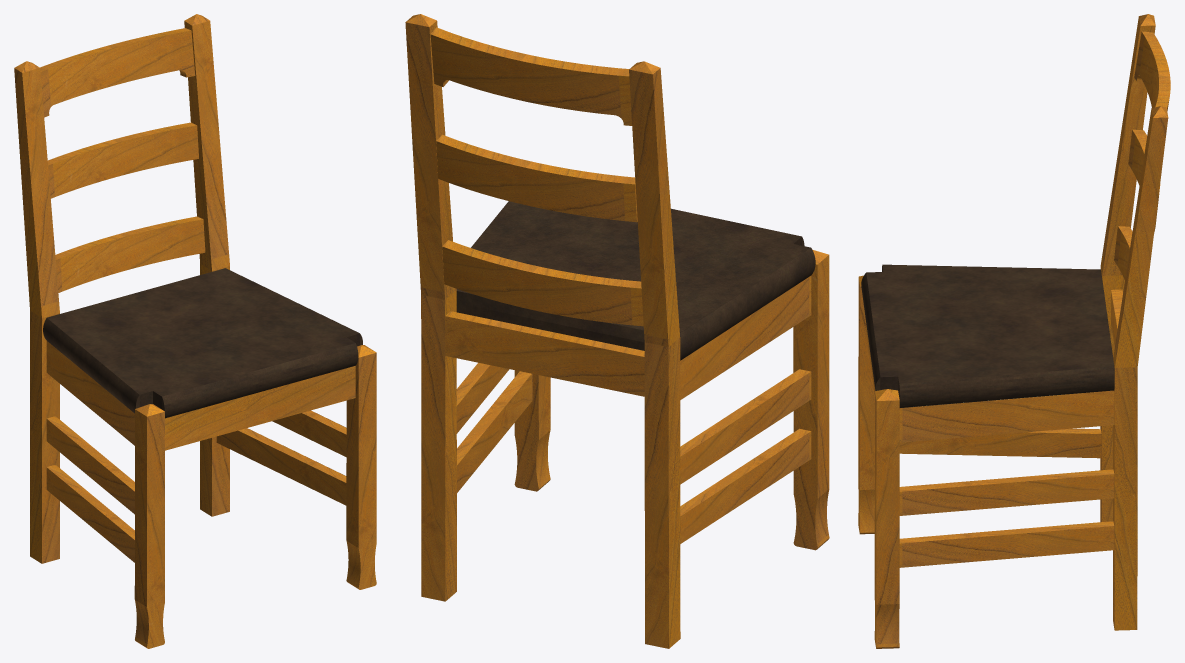
The model's file is chair3.dae.
3 renders of one model, left to right at view 1: azimuth 30°, elevation 25°; view 2: azimuth 150°, elevation 25°; view 3: azimuth 270°, elevation 25°, orthographic. The views are drawn at different scales.
Visible parts, largest first — view 1: group_9, Group_4 (×2), FRONT_LEG (×2), group_2 (×2), group_8 (×2), group_20, group_14, group_19, group_12, group_11, group_15, group_13; view 2: Group_4 (×2), group_9 (×2), group_2 (×2), FRONT_LEG (×2), group_20, group_18, group_12, group_11, group_15, group_8, group_19, group_13; view 3: group_9, Group_4 (×2), FRONT_LEG (×2), group_16, group_19, group_13, group_8 (×2), group_15, group_20, group_2 (×2), group_18.
Part boxes in pixels (x1,y1,x2,y2): group_9: [47, 268, 359, 409]; Group_4 (×2): [14, 14, 229, 563]; FRONT_LEG (×2): [134, 345, 376, 648]; group_2 (×2): [47, 122, 205, 292]; group_8 (×2): [43, 318, 358, 418]; group_20: [40, 28, 195, 117]; group_14: [165, 366, 355, 450]; group_19: [216, 428, 346, 505]; group_12: [46, 341, 134, 445]; group_11: [46, 416, 134, 514]; group_15: [46, 464, 134, 562]; group_13: [272, 410, 346, 457]; Group_4 (×2): [405, 14, 680, 648]; group_9 (×2): [456, 201, 810, 350]; group_2 (×2): [436, 134, 643, 326]; FRONT_LEG (×2): [514, 249, 829, 550]; group_20: [430, 27, 632, 125]; group_18: [445, 311, 644, 396]; group_12: [680, 276, 811, 399]; group_11: [680, 369, 811, 484]; group_15: [680, 428, 811, 543]; group_8: [680, 248, 815, 360]; group_19: [457, 371, 532, 492]; group_13: [456, 362, 509, 433]; group_9: [866, 264, 1114, 407]; Group_4 (×2): [1100, 14, 1168, 630]; FRONT_LEG (×2): [858, 275, 899, 648]; group_16: [899, 390, 1114, 442]; group_19: [899, 521, 1114, 567]; group_13: [899, 469, 1114, 515]; group_8 (×2): [861, 273, 1114, 407]; group_15: [899, 428, 1101, 458]; group_20: [1134, 31, 1170, 110]; group_2 (×2): [1114, 129, 1160, 279]; group_18: [1111, 289, 1122, 346].
Size of the model in its own units: 19.4 by 20.47 by 37.57.
Materials: 5 (4 with a texture image).
